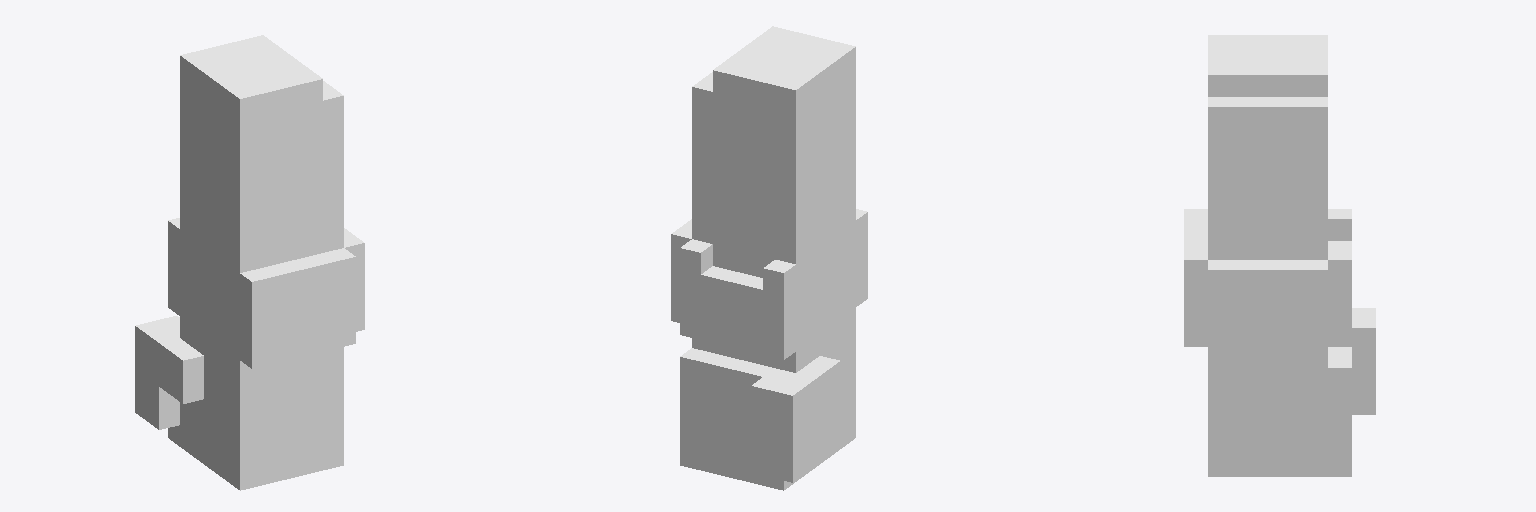
Rendered from Heroes-4.obj.
3 views of the same model, side by side, from view 1: azimuth 30°, elevation 25°; view 2: azimuth 150°, elevation 25°; view 3: azimuth 270°, elevation 25° (orthographic).
Visible parts, largest first — view 1: object 1; view 2: object 1; view 3: object 1.
Part boxes in pixels (left/top/right/bottom): object 1: left=135, top=35, right=364, bottom=490; object 1: left=671, top=26, right=867, bottom=490; object 1: left=1184, top=35, right=1375, bottom=476.
Size of the model in its own units: 0.7 by 1.8 by 0.8.